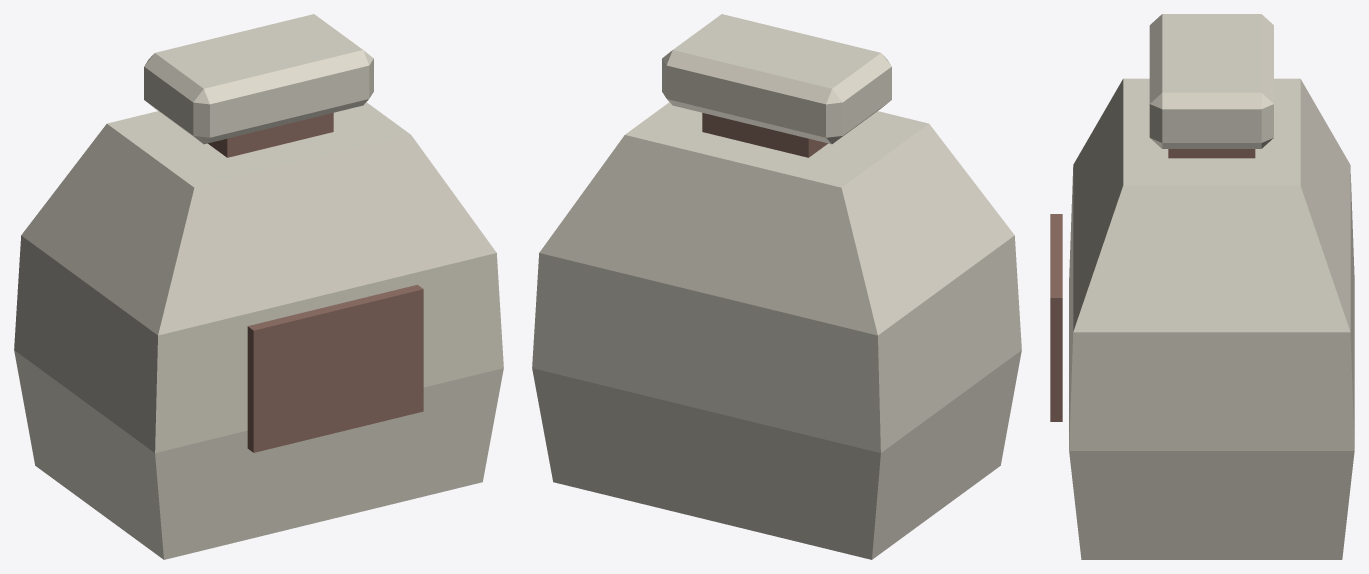
The picture shows the model from 3 angles, left to right: view 1: azimuth 30°, elevation 25°; view 2: azimuth 150°, elevation 25°; view 3: azimuth 270°, elevation 25°; orthographic projection.
Parts seen in each view (by area): view 1: Un_Model; view 2: Un_Model; view 3: Un_Model.
Boxes of the visible parts, x1,y1,x2,y2 form: Un_Model: (14,14,503,559); Un_Model: (532,14,1021,559); Un_Model: (1050,14,1354,559).
Bounding box in the file's own units: 32.83 × 38 × 24.49.
